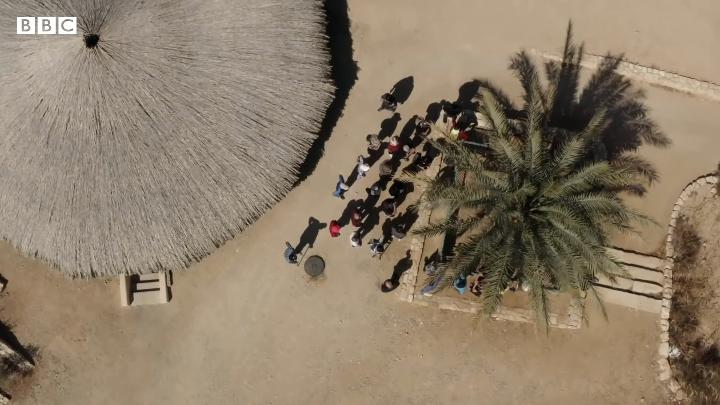Date-Palm-Crown: (475, 144, 589, 264)
